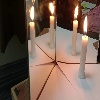fire: (82, 15, 88, 39)
